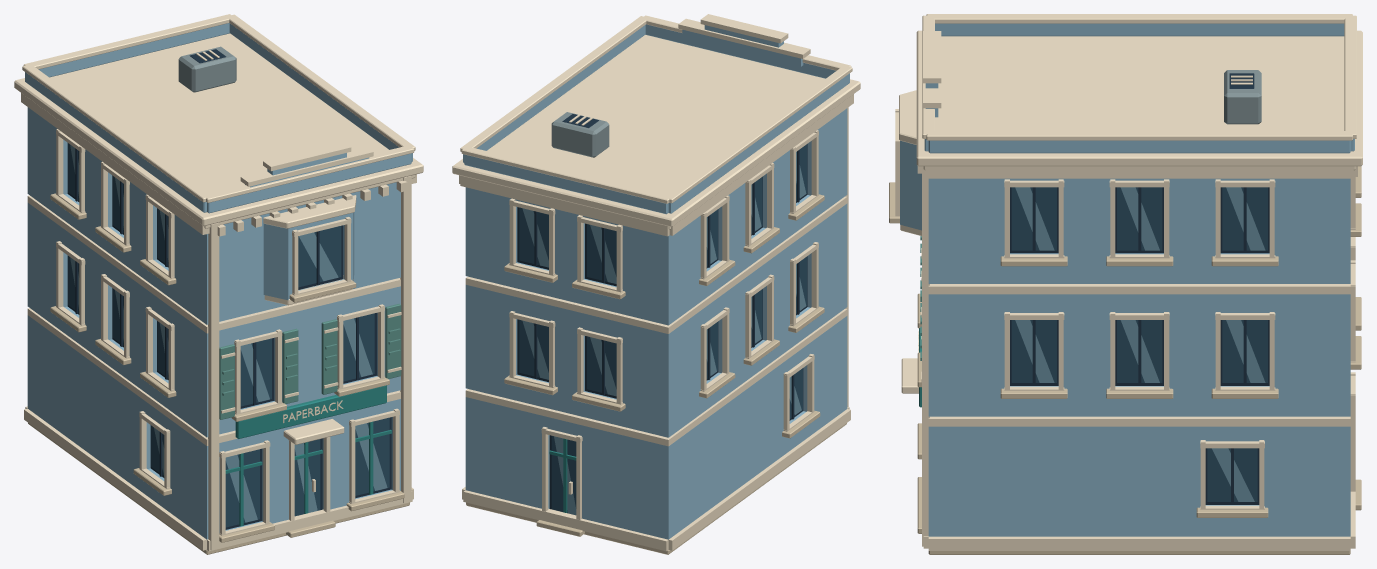
File: paperback_bookshop.glb
3 renders of one model, left to right at view 1: azimuth 30°, elevation 25°; view 2: azimuth 150°, elevation 25°; view 3: azimuth 270°, elevation 25°, orthographic. The views are drawn at different scales.
Visible parts, largest first — view 1: PaperbackBookshop_StaticMesh; view 2: PaperbackBookshop_StaticMesh; view 3: PaperbackBookshop_StaticMesh.
Boxes of the visible parts, x1,y1,x2,y2 form: PaperbackBookshop_StaticMesh: (14,14,423,554); PaperbackBookshop_StaticMesh: (452,14,860,554); PaperbackBookshop_StaticMesh: (889,14,1362,554).
Size of the model in its own units: 6.42 by 10.4 by 10.11.
